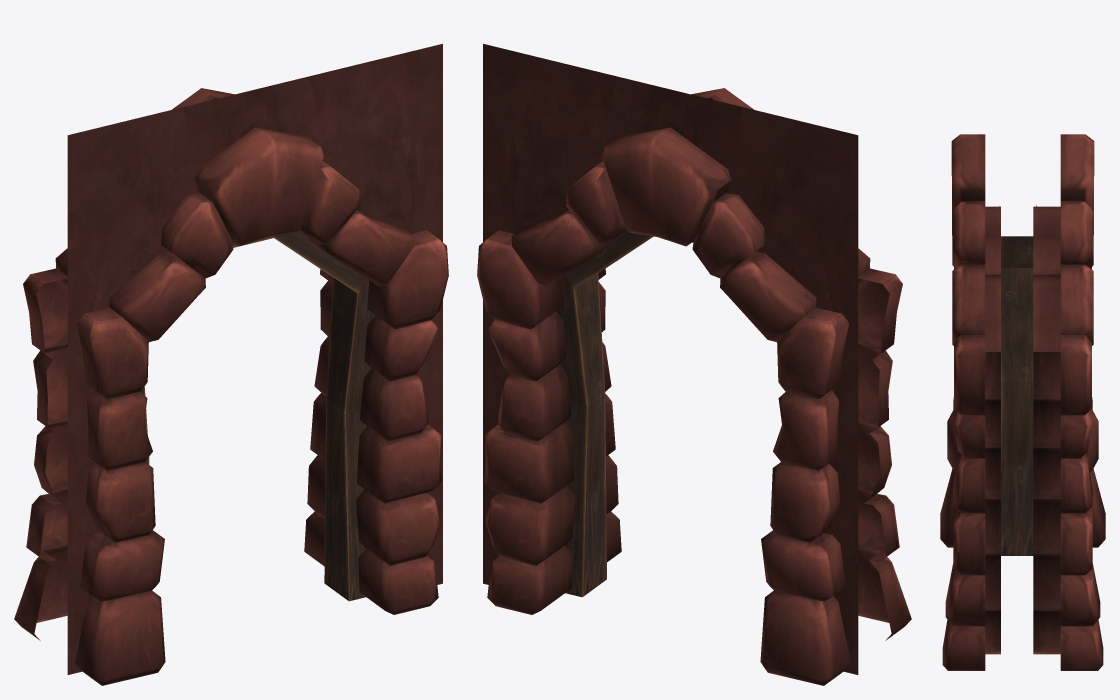
Rendered from lava_wall_door_01.fbx.
3 views of the same model, side by side, from view 1: azimuth 30°, elevation 25°; view 2: azimuth 150°, elevation 25°; view 3: azimuth 270°, elevation 25° (orthographic). The views are drawn at different scales.
Parts seen in each view (by area): view 1: lava_wall_door_01-0; view 2: lava_wall_door_01-0; view 3: lava_wall_door_01-0.
Boxes of the visible parts, <box> form: lava_wall_door_01-0: <box>14,44,448,685</box>; lava_wall_door_01-0: <box>477,44,911,685</box>; lava_wall_door_01-0: <box>940,134,1105,670</box>.
Bounding box in the file's own units: 4 × 5.5 × 1.64.
